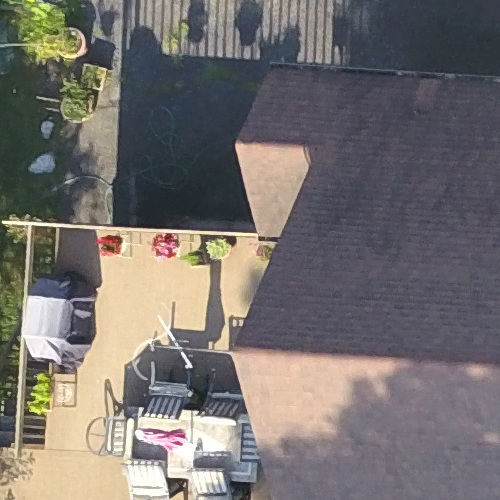flower pot: (31, 22, 96, 60), (49, 86, 97, 123)
